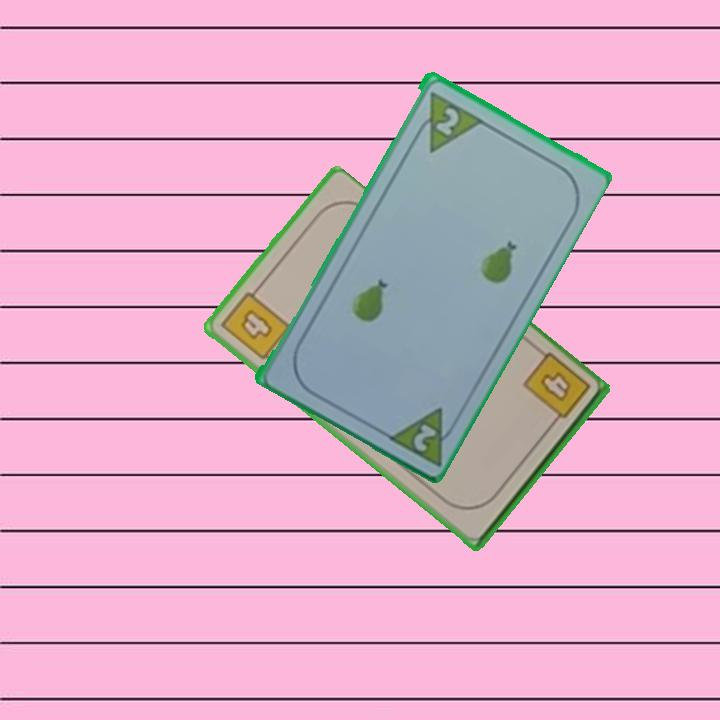2p: (431, 103, 462, 138), (409, 419, 440, 454)
4b: (217, 282, 294, 363), (519, 349, 594, 432)
